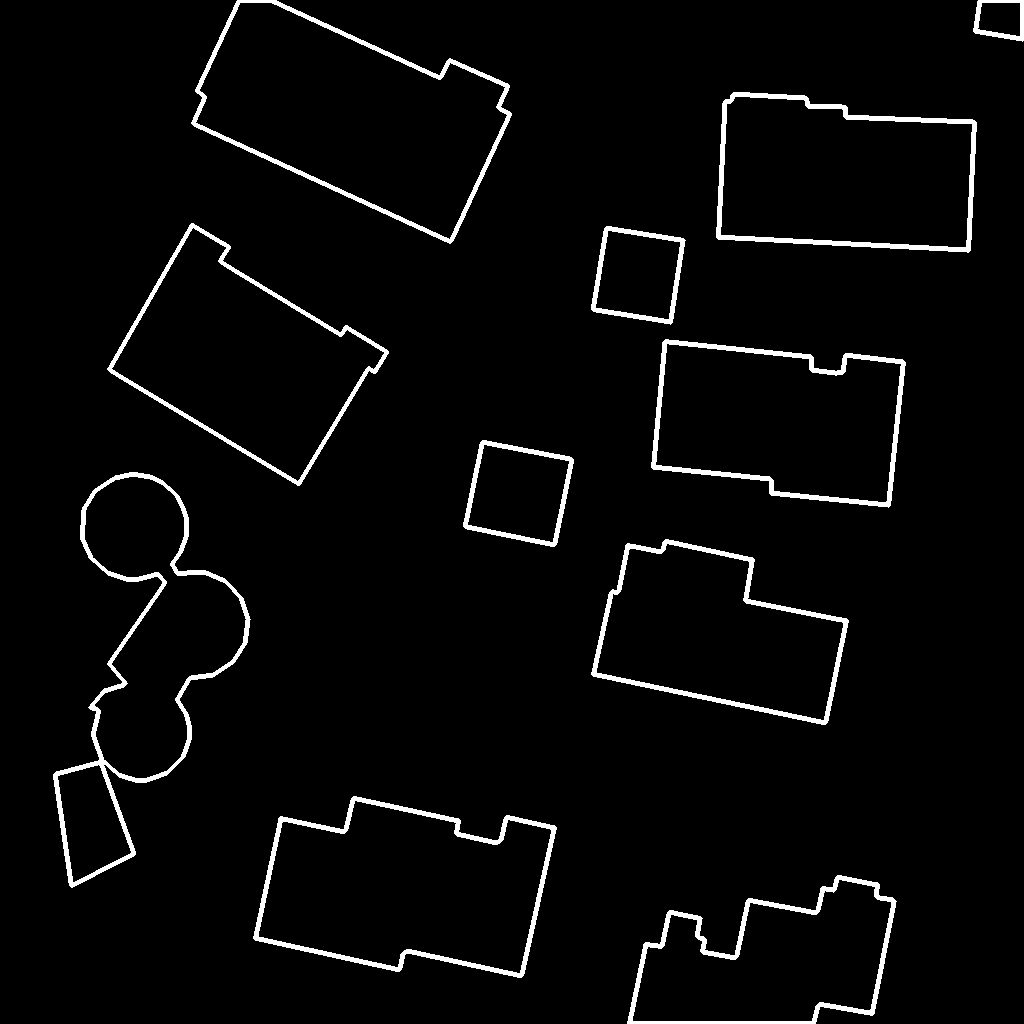building: (193, 0, 511, 243), (109, 225, 388, 485), (255, 798, 556, 977), (82, 474, 249, 781), (593, 541, 848, 724), (653, 341, 905, 506), (718, 94, 976, 251), (629, 877, 895, 1024), (465, 442, 573, 546), (55, 762, 135, 887), (593, 228, 684, 323), (975, 0, 1024, 40)
